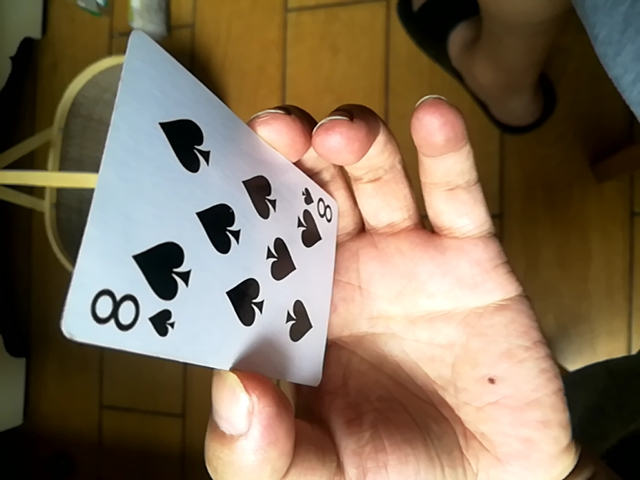ht 8: (63, 28, 342, 398)
